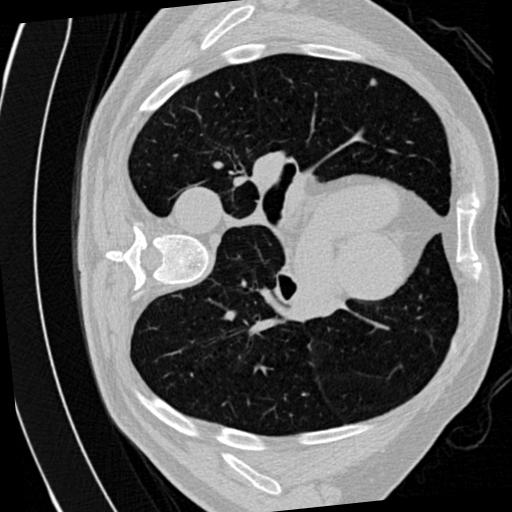nodule: (368, 79, 381, 92)
